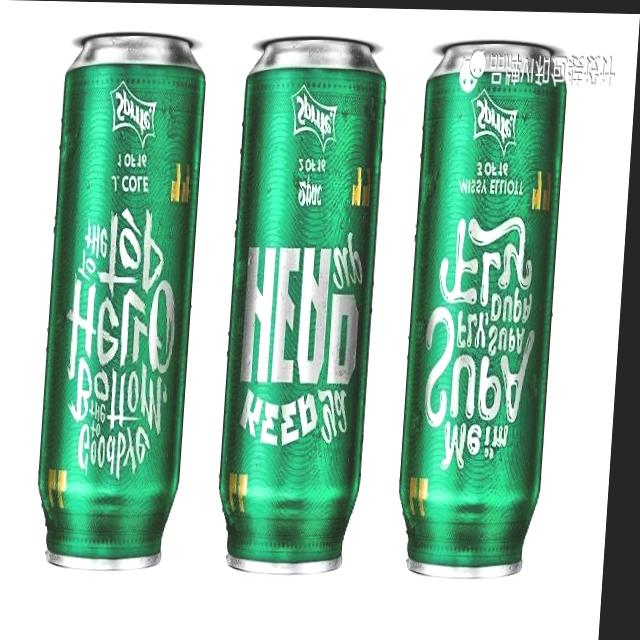can: (33, 30, 222, 585), (216, 29, 403, 581), (393, 32, 580, 584)
